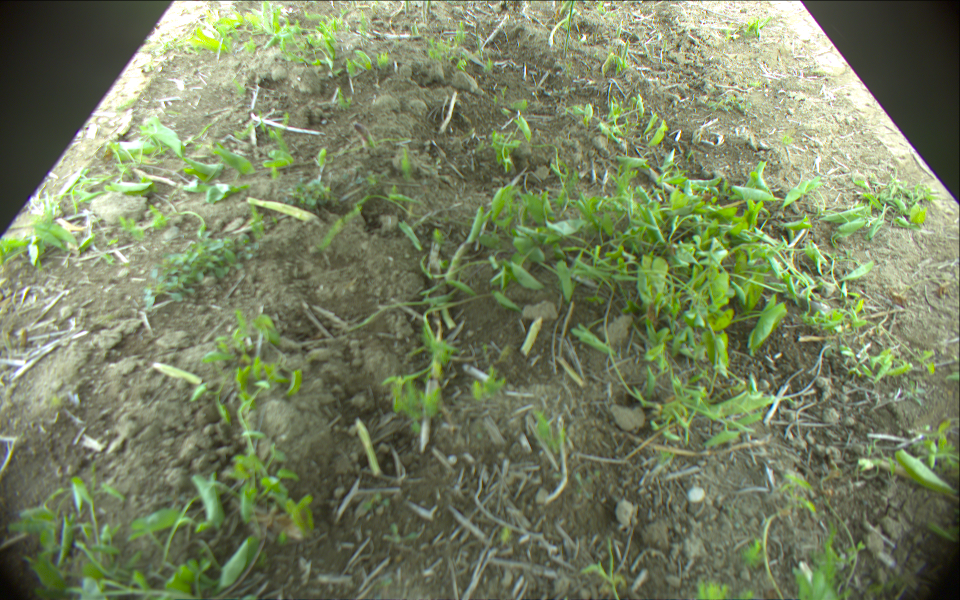aspa: (550, 9, 577, 45), (566, 1, 575, 55), (422, 1, 429, 21), (402, 1, 410, 11)
